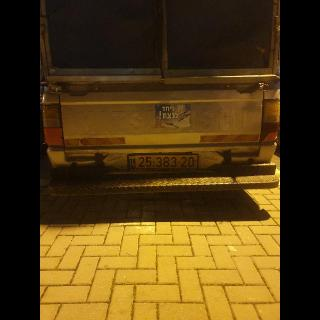LicensePlate: (137, 156, 198, 169)
